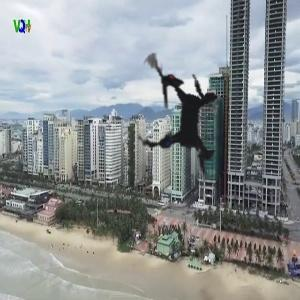drone: (83, 17, 285, 219)
